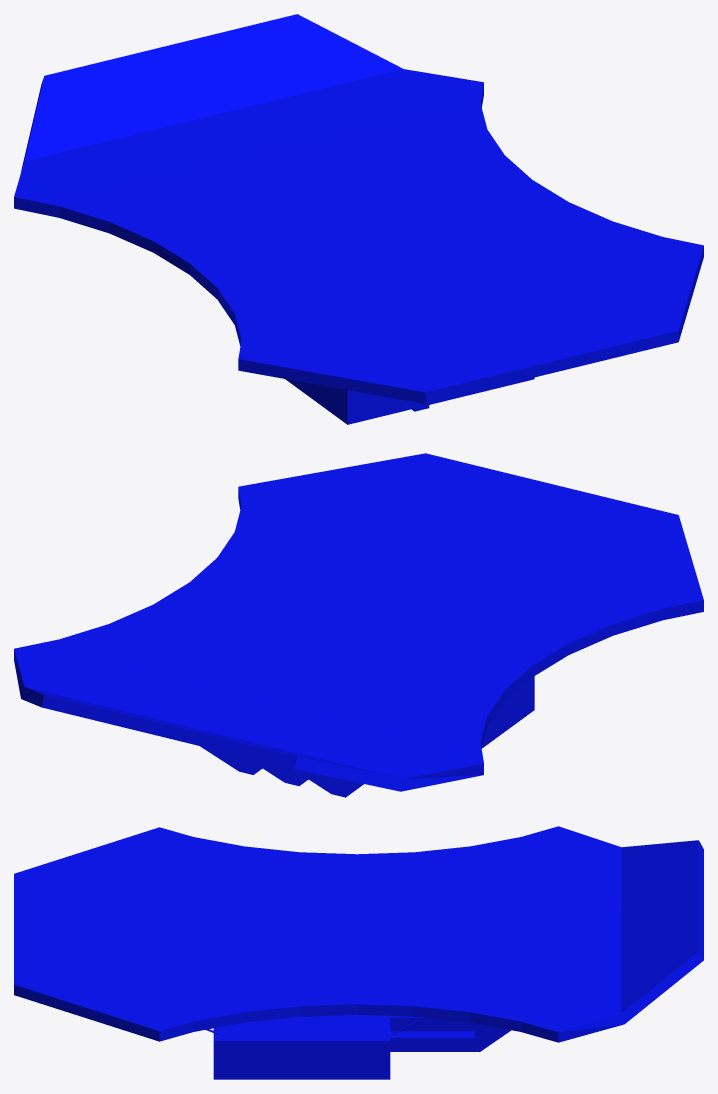
3 views of the same model, one above another, from view 1: azimuth 30°, elevation 25°; view 2: azimuth 150°, elevation 25°; view 3: azimuth 270°, elevation 25° (orthographic). The views are drawn at different scales.
Visible parts, largest first — view 1: tmp_export_Cube.001; view 2: tmp_export_Cube.001; view 3: tmp_export_Cube.001.
Boxes of the visible parts, <box> form: tmp_export_Cube.001: <box>14,14,703,424</box>; tmp_export_Cube.001: <box>14,453,703,797</box>; tmp_export_Cube.001: <box>14,826,703,1079</box>.
Size of the model in its own units: 2.65 by 3.75 by 0.9805.
